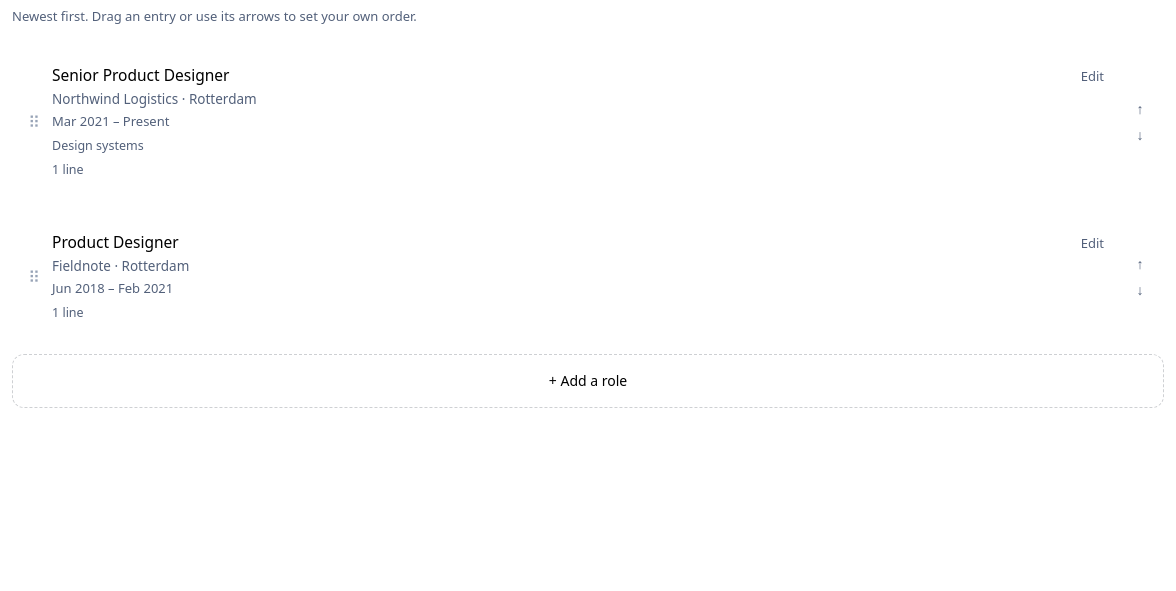
Test: skills used in a role › attaches and detaches a skill right away, without autosaving the role
Later steps or results of the test are not shown.
Click the button "Senior Product Designer": [584, 122] box [40,44,1128,199]
(page scrolled)
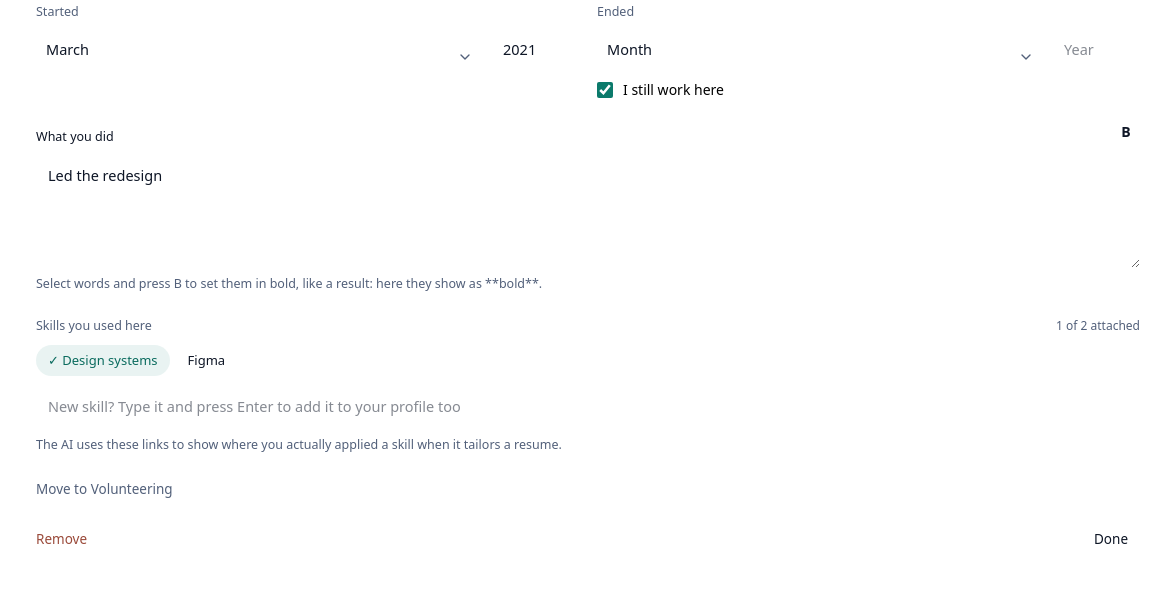
Click the button "Figma": [206, 360] box [176,345,237,376]
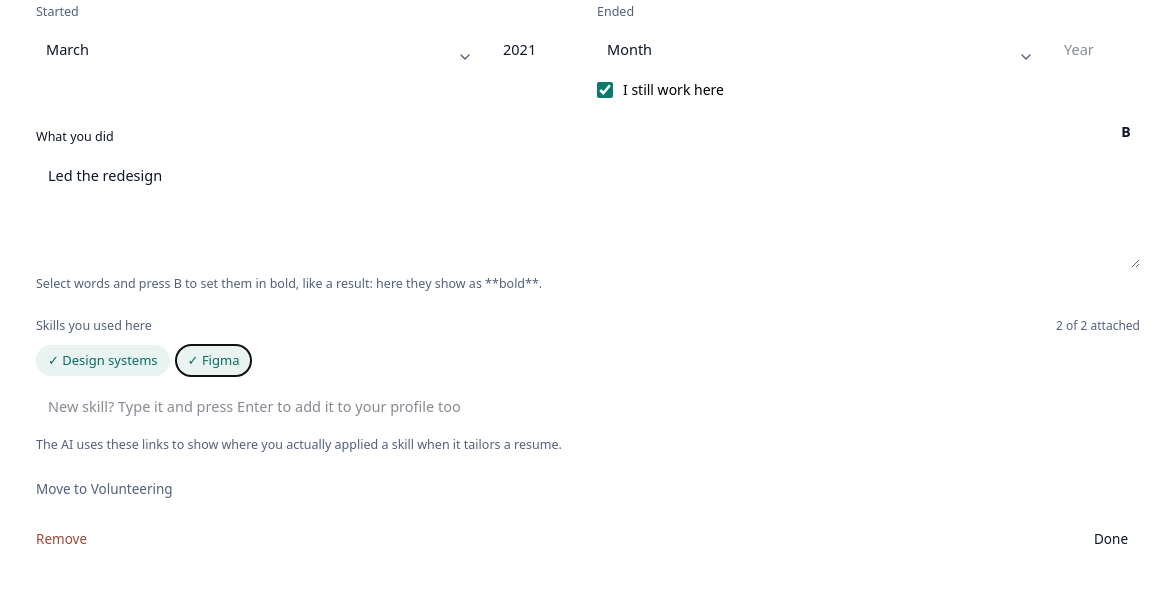
Result: the element "Skills you used here" shows "2 of 2 attached" at [1056,317,1140,334]
